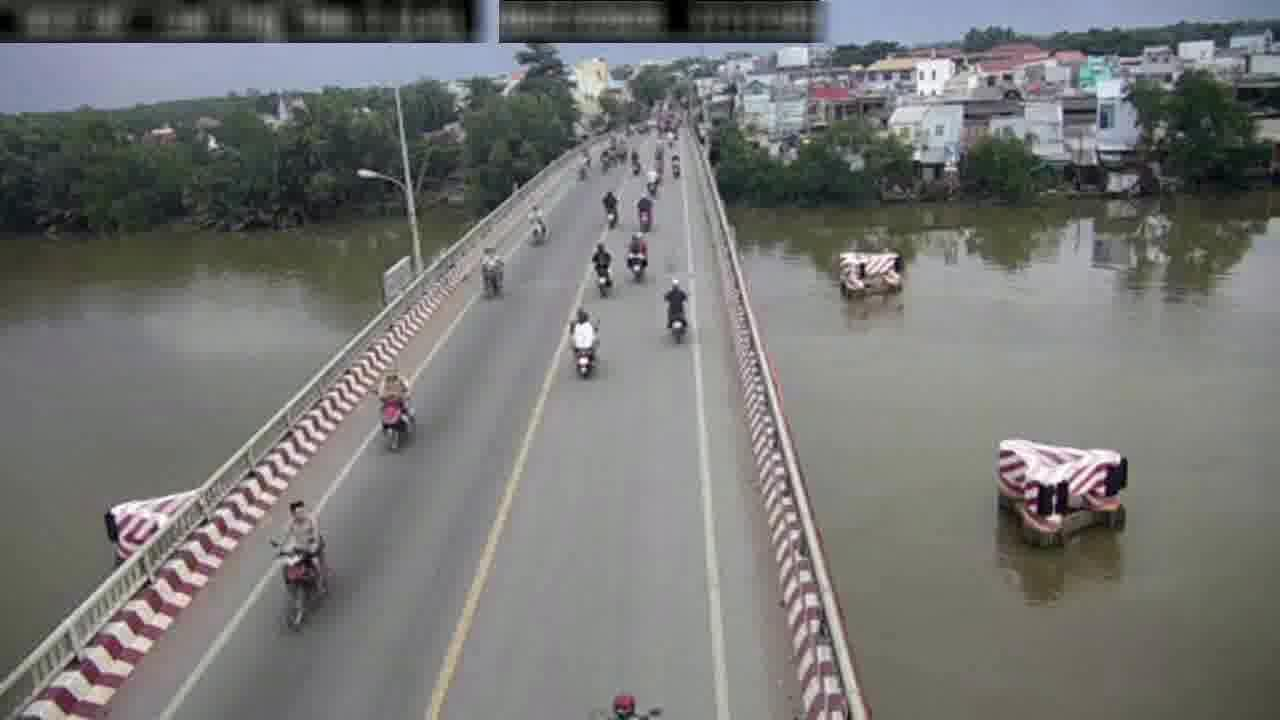motorbike: (280, 492, 332, 637), (379, 360, 412, 453), (568, 300, 602, 383), (478, 240, 506, 306), (662, 278, 687, 344), (589, 235, 613, 302), (628, 228, 649, 285)
